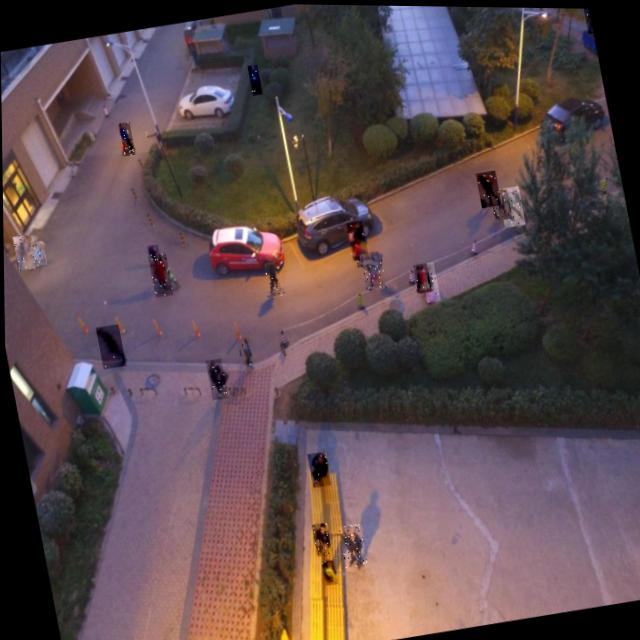Person: (336, 522, 367, 571), (94, 323, 125, 368), (497, 184, 525, 226), (147, 252, 172, 296), (359, 249, 385, 289), (474, 168, 501, 206), (204, 357, 227, 400), (305, 449, 330, 487), (345, 219, 368, 260), (260, 258, 284, 297), (418, 260, 440, 301), (11, 234, 35, 270), (489, 187, 511, 219), (310, 521, 330, 555), (411, 261, 431, 292), (117, 121, 135, 155), (236, 336, 253, 370), (351, 238, 369, 267), (247, 63, 262, 95), (28, 240, 46, 266), (319, 558, 336, 584), (146, 243, 161, 267), (582, 7, 592, 32)
